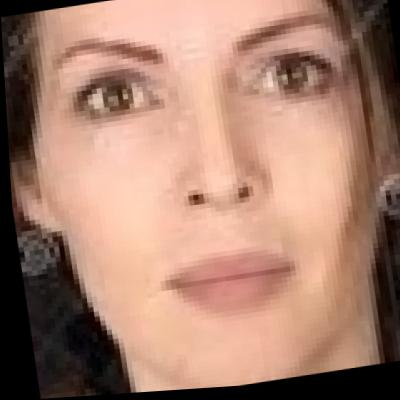netural: (32, 0, 397, 385)
